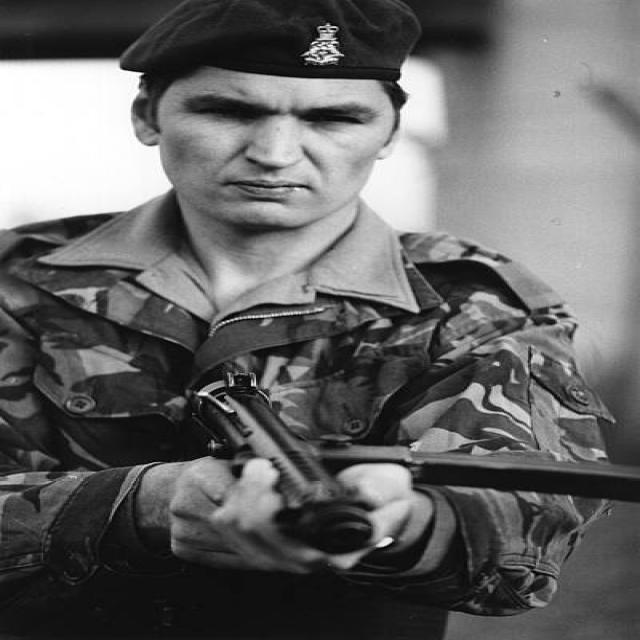soldier: (1, 1, 639, 627)
